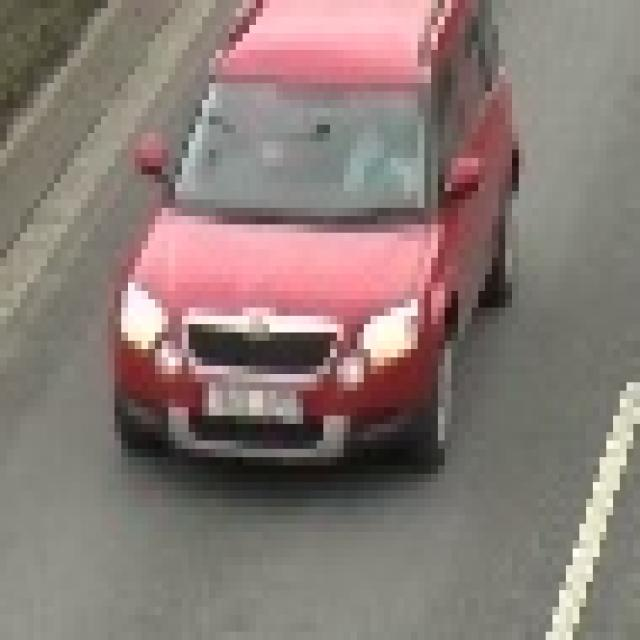SUV: (114, 0, 498, 457)
